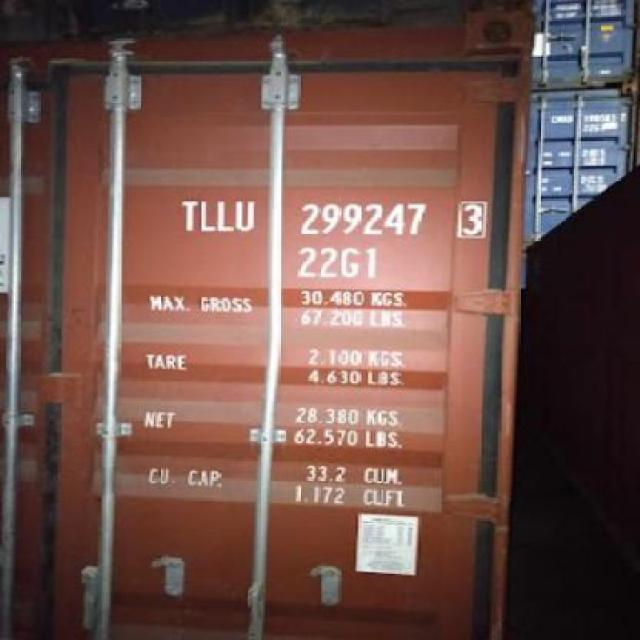ISO: (290, 246, 380, 282)
container_number: (172, 196, 491, 238)
